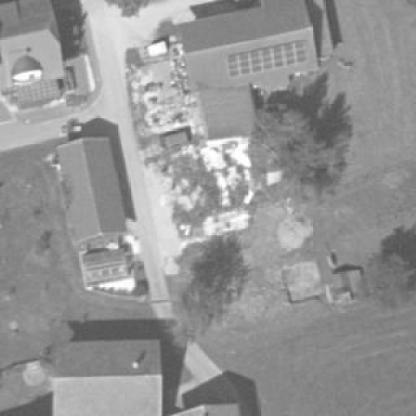solar-pv-panel: (226, 40, 309, 76)
